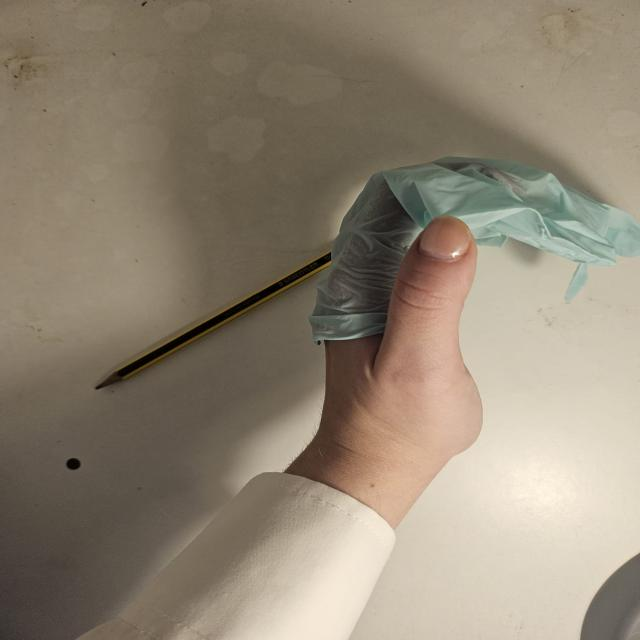glove_partial: (308, 154, 640, 462)
